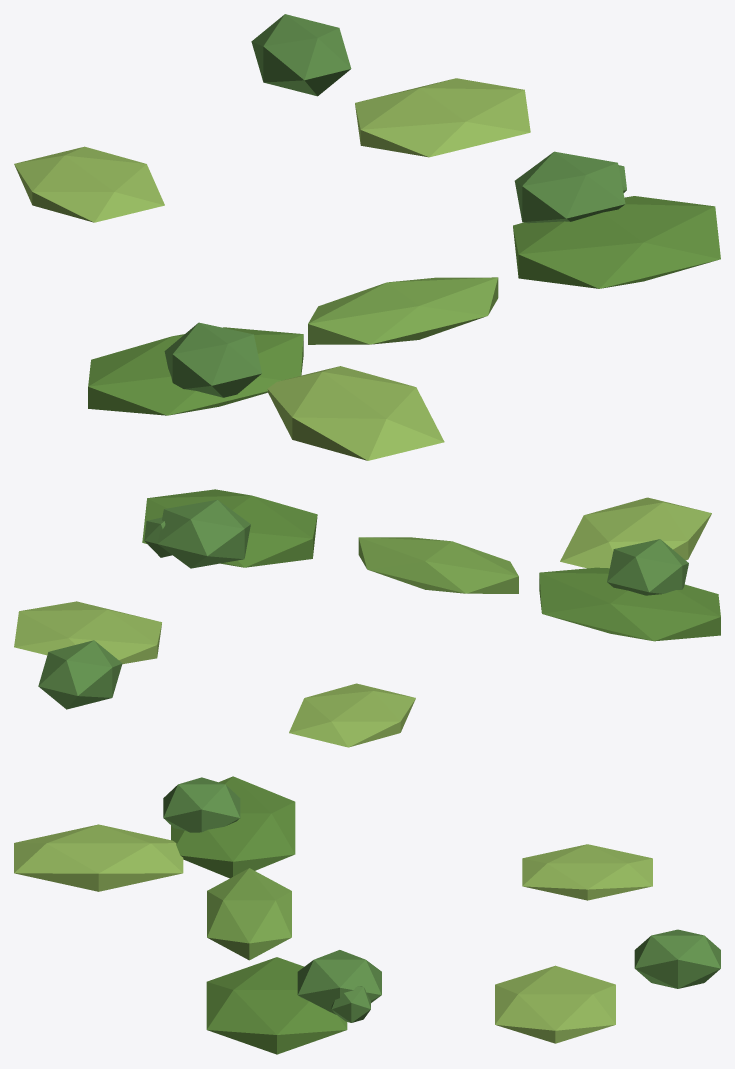
File: Kir_cimen_calili_5_Hafif.fbx
3 views of the same model, one above another, from view 1: azimuth 30°, elevation 25°; view 2: azimuth 150°, elevation 25°; view 3: azimuth 270°, elevation 25° (orthographic). The views are drawn at different scales.
Parts seen in each view (by area): view 1: Kir_cimen_calili_5_Hafif; view 2: Kir_cimen_calili_5_Hafif; view 3: Kir_cimen_calili_5_Hafif.
Boxes of the visible parts, left/top/right/bottom form: Kir_cimen_calili_5_Hafif: left=14, top=14, right=720, bottom=460; Kir_cimen_calili_5_Hafif: left=14, top=489, right=720, bottom=747; Kir_cimen_calili_5_Hafif: left=14, top=776, right=720, bottom=1054.
Size of the model in its own units: 15.94 by 1.68 by 18.35.
